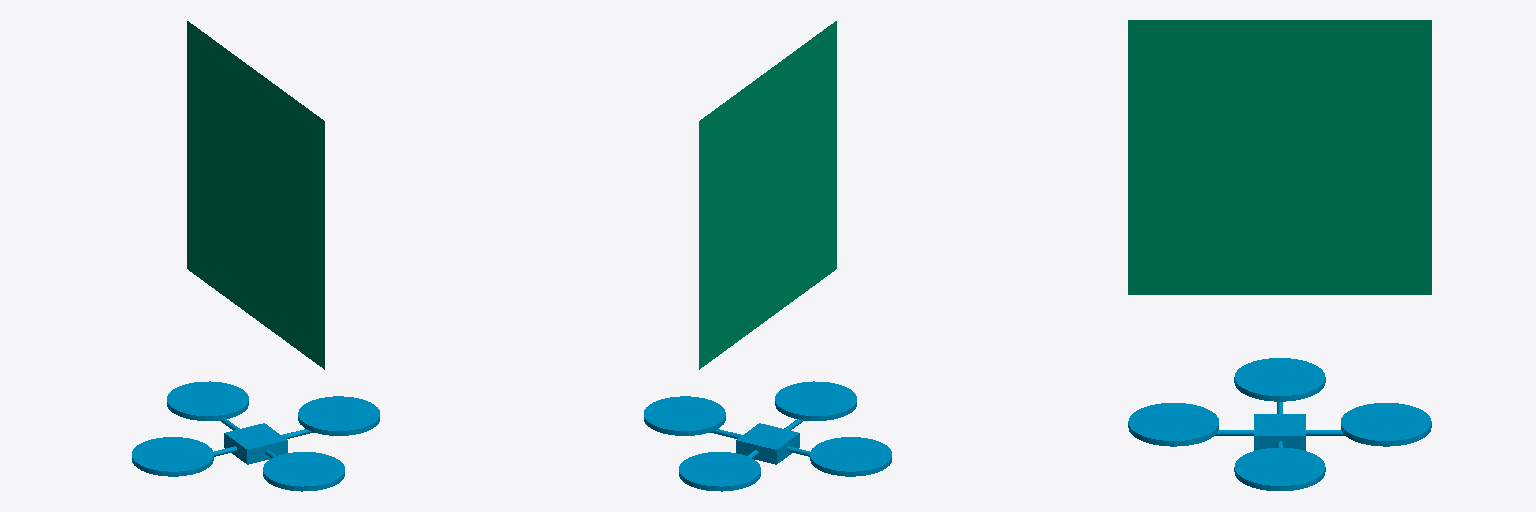
URDF robot description (drone):
<?xml version="1.0" ?>

<robot name="drone">

  <material name="arches-blue">
    <color rgba="0.0 0.6235294117647059 0.8313725490196079 1" />
  </material>

  <link name="base">
    <inertial>
      <origin rpy="0 0 0" xyz="0 0 0"/>
      <mass value="0.5"/>
      <inertia ixx="0.0023" ixy="0.0" ixz="0.0" iyy="0.0023" iyz="0.0" izz="0.004"/>
    </inertial>
    <visual>
      <origin rpy="0 0 0" xyz="0 0 0"/>
      <geometry>
        <mesh filename="drone.stl" scale="1 1 1"/> -->
      </geometry>
      <material name="arches-blue"/>
    </visual>
    <collision>
      <origin rpy="0 0 0" xyz="0 0 0"/>
      <geometry>
        <mesh filename="drone.stl" scale="1 1 1"/> -->
      </geometry>
    </collision>
  </link>

  <link name="center_of_mass">
    <inertial>
      <origin rpy="0 0 0" xyz="0 0 0"/>
      <mass value="0"/>
      <inertia ixx="0" ixy="0" ixz="0" iyy="0" iyz="0" izz="0"/>
    </inertial>
  </link>

  <link name="screen">
    <inertial>
      <origin rpy="0 0 0" xyz="0 0 0"/>
      <mass value="0"/>
      <inertia ixx="0" ixy="0" ixz="0" iyy="0" iyz="0" izz="0"/>
    </inertial>
    <visual>
      <origin rpy="0 0 0" xyz="0 0 0.5"/>
      <geometry>
        <mesh filename="screen.obj" scale=".25 .25 .25"/>
      </geometry>
    </visual>
  </link>

  <joint name="base_to_center_of_mass" type="fixed">
    <parent link="base"/>
    <child link="center_of_mass"/>
  </joint>

  <joint name="base_to_screen" type="fixed">
    <parent link="base"/>
    <child link="screen"/>
  </joint>

</robot>

--- What the picture shows (computed from the rendered views, not written in the file) ---
3 views of the same robot in one strip: view 1: azimuth 30°, elevation 25°; view 2: azimuth 150°, elevation 25°; view 3: azimuth 270°, elevation 25° (orthographic).
Robot: drone — 3 links, 2 joints (2 fixed); root link base; default pose: every joint at zero.
Links seen in each view (by area): view 1: screen, base; view 2: screen, base; view 3: screen, base.
Link boxes in pixels (bbox=[...]): screen: bbox=[187, 21, 324, 369]; base: bbox=[132, 381, 379, 491]; screen: bbox=[699, 21, 836, 369]; base: bbox=[644, 381, 891, 491]; screen: bbox=[1128, 20, 1431, 294]; base: bbox=[1128, 358, 1431, 490].
Size in the robot's own frame: 0.5 by 0.5 by 0.765 metres.
2 mesh visuals loaded from 2 distinct referenced files (1 binary STL, 1 OBJ).